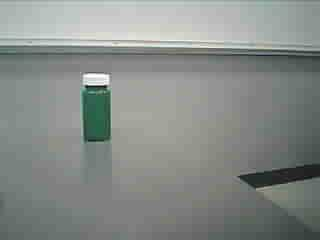Bottle C: (72, 67, 120, 142)
